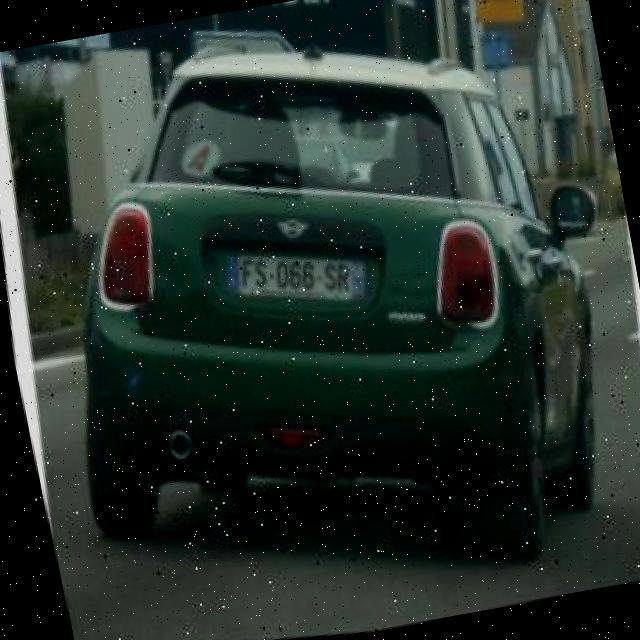EU: (212, 225, 370, 319)
France: (213, 250, 247, 304)
